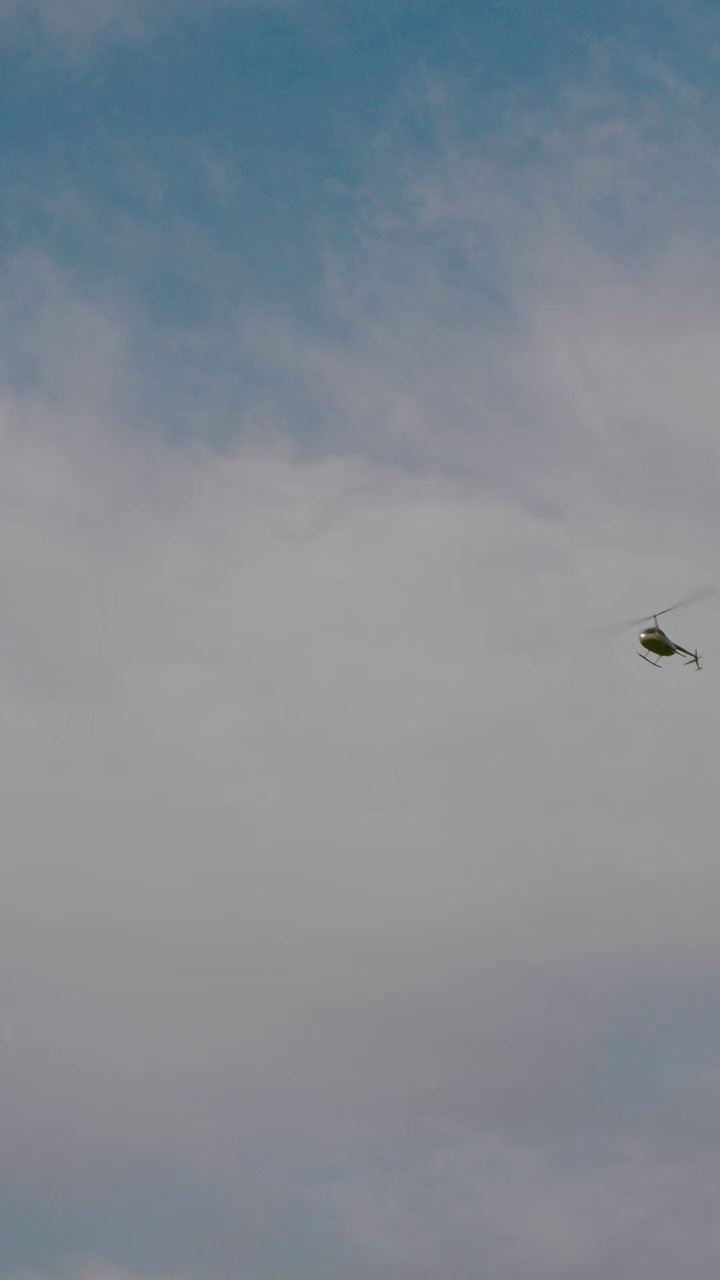heli: (609, 578, 713, 670)
